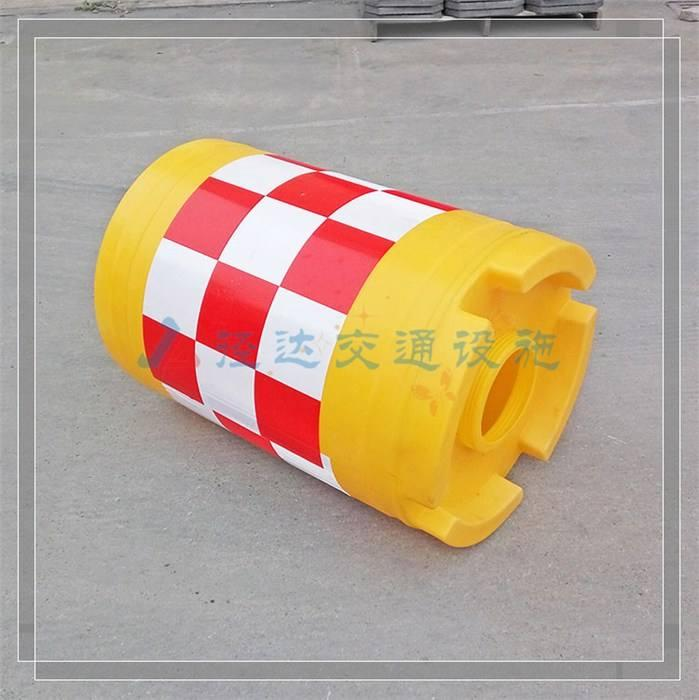sign: (90, 130, 617, 553)
